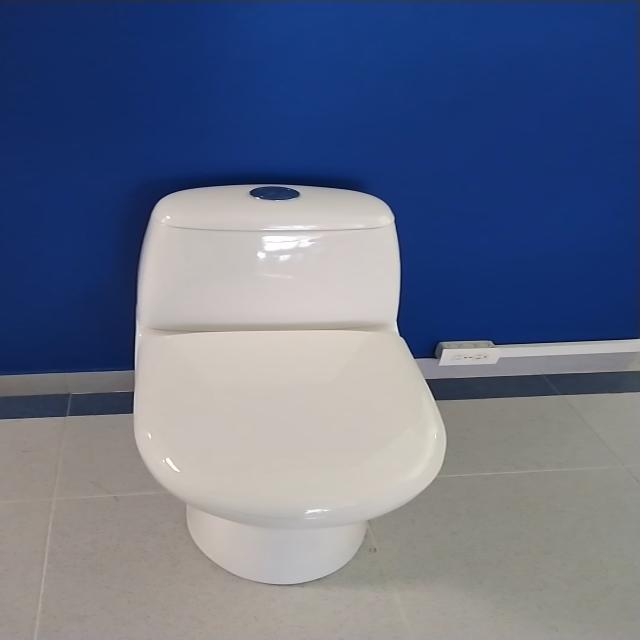toilet: (119, 175, 456, 587)
